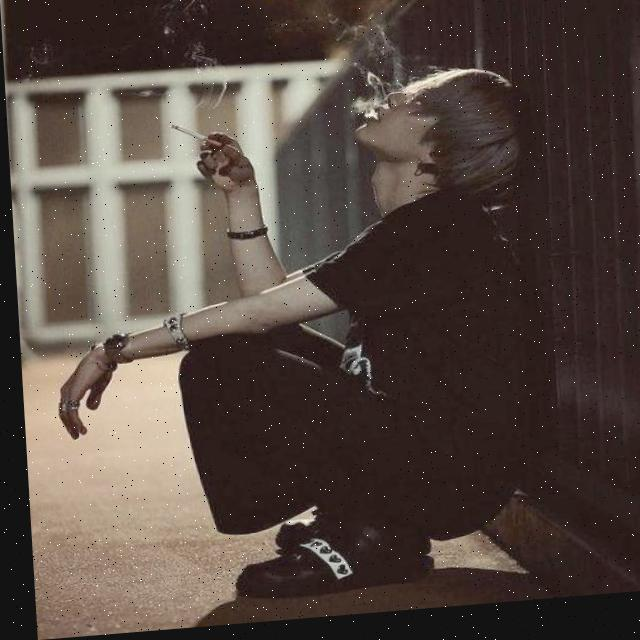cigarette: (167, 122, 217, 152)
